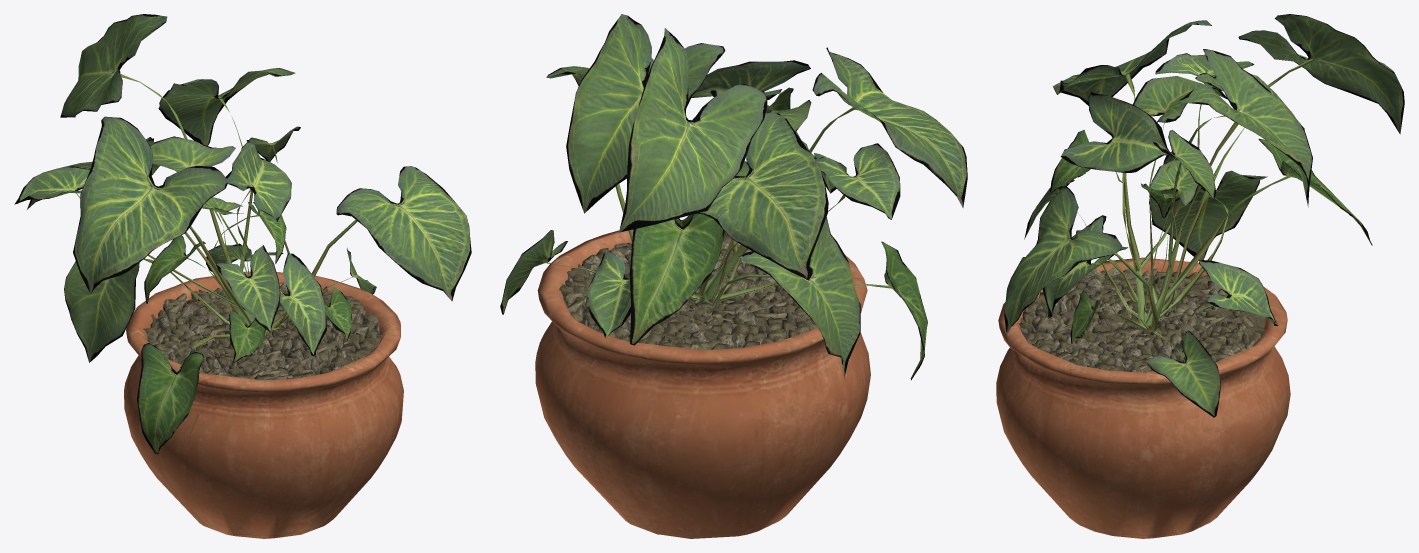
The model's file is potted-plant-02.glb.
3 renders of one model, left to right at view 1: azimuth 30°, elevation 25°; view 2: azimuth 150°, elevation 25°; view 3: azimuth 270°, elevation 25°, orthographic. The views are drawn at different scales.
Parts seen in each view (by area): view 1: potted_plant_02_leaves, potted_plant_02_pot; view 2: potted_plant_02_leaves, potted_plant_02_pot; view 3: potted_plant_02_pot, potted_plant_02_leaves.
Boxes of the visible parts, x1,y1,x2,y2 form: potted_plant_02_leaves: (14, 14, 471, 454); potted_plant_02_pot: (124, 271, 403, 538); potted_plant_02_leaves: (500, 14, 967, 380); potted_plant_02_pot: (535, 220, 870, 538); potted_plant_02_pot: (996, 257, 1290, 538); potted_plant_02_leaves: (1004, 14, 1404, 417).
Size of the model in its own units: 0.7009 by 0.8401 by 0.6561.
2 materials, 2 textured.
